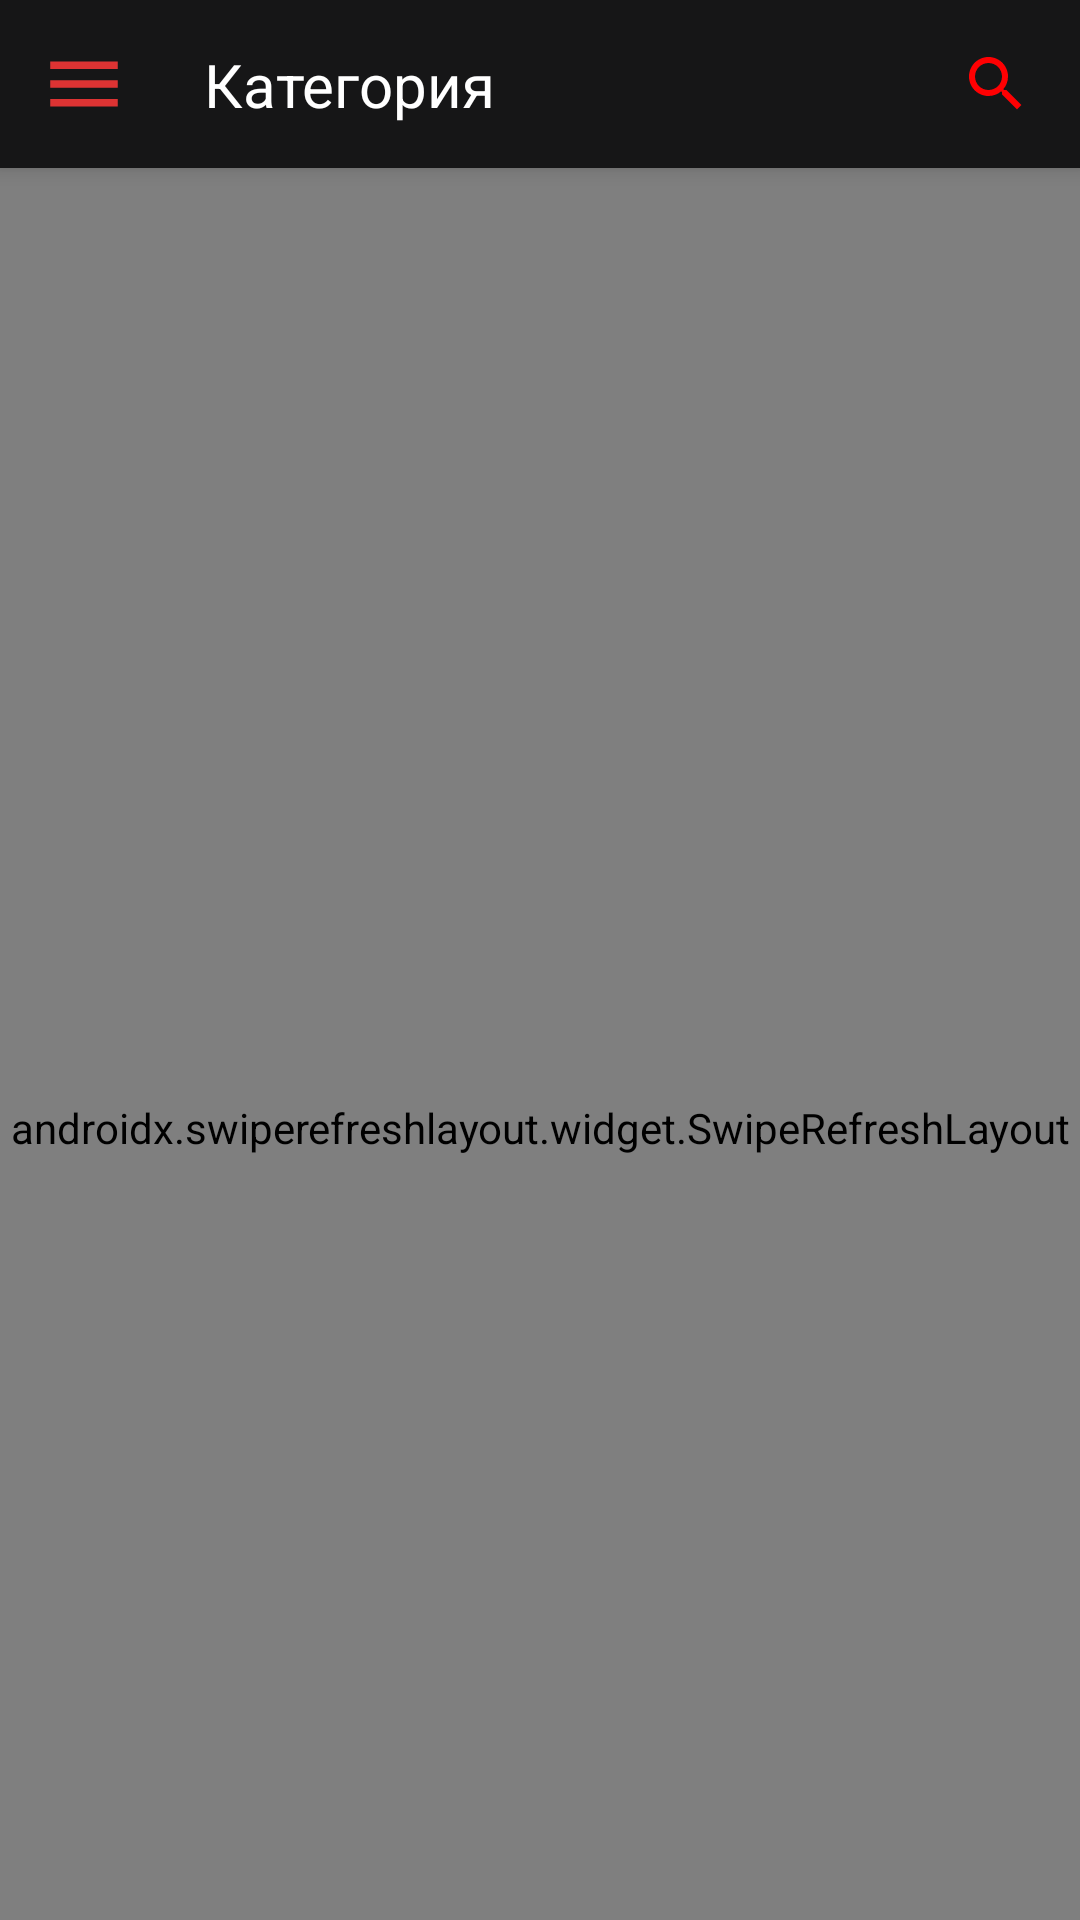

Locate icon controls on the screen. Image size 1080×1920, boxes as (x1, y1, x2, y2).
hamburger: (50, 61, 118, 107)
search: (969, 57, 1021, 109)
